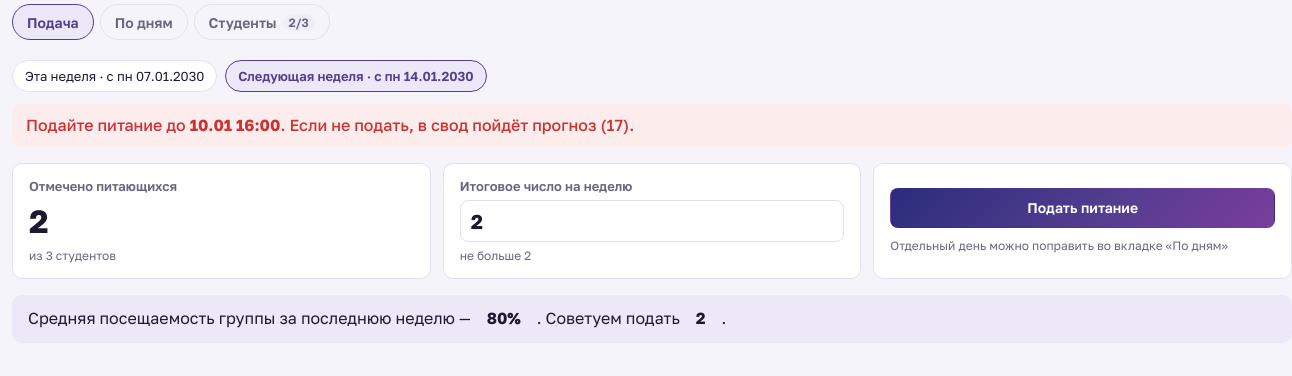
Test: GroupMealsPanel — куратор › «Подать питание» отправляет неделю и итоговое число
Replace the text in the number field named "Итоговое число питающихся на неделю" with "1" at (652,221), box top-left (460, 200), bottom-right (844, 242)
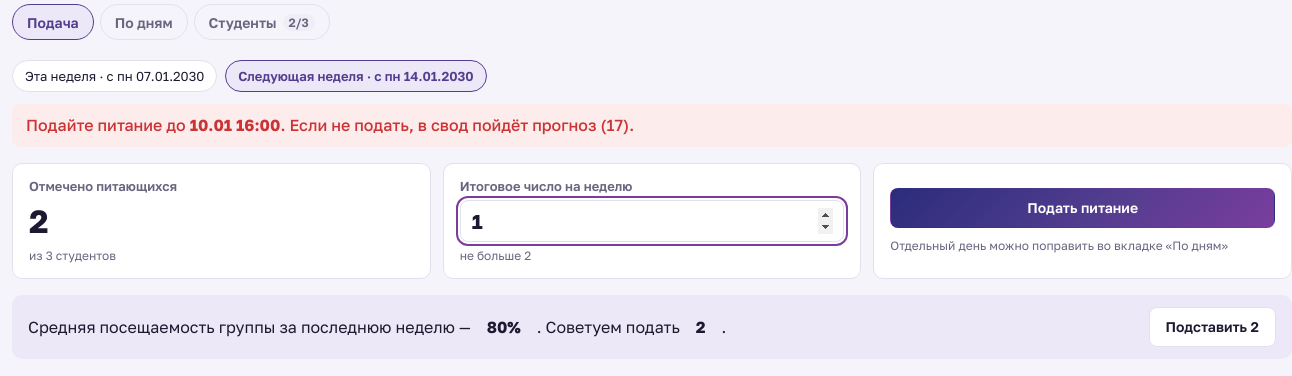
Click the button "Подать питание".
click(1083, 208)  # box top-left (890, 188), bottom-right (1275, 228)
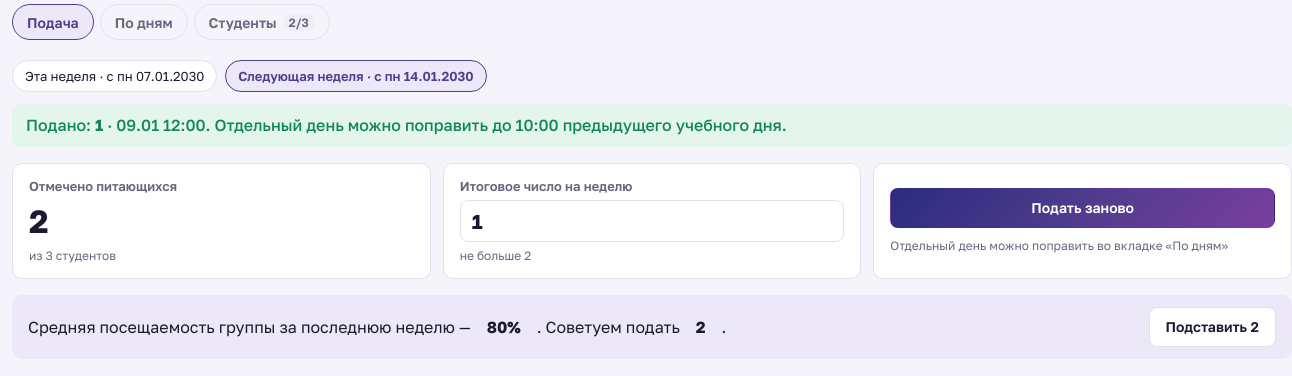
Result: the button "Подать заново" is shown at top-left (890, 188), bottom-right (1275, 228)
